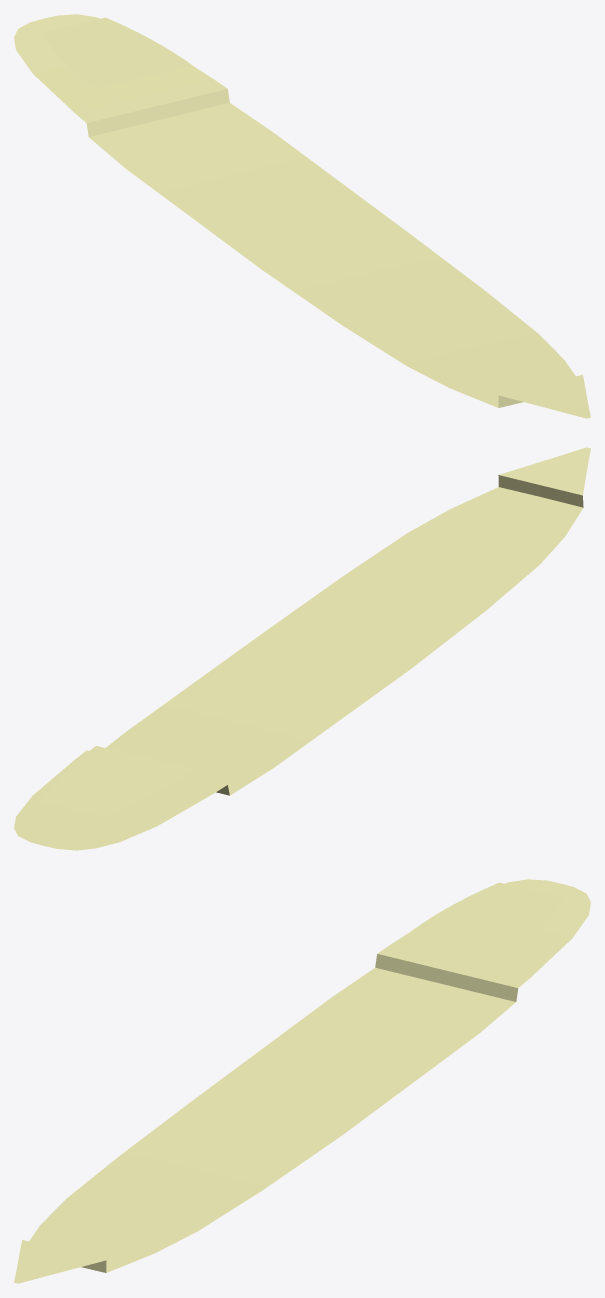
3 views of the same model, one above another, from view 1: azimuth 30°, elevation 25°; view 2: azimuth 150°, elevation 25°; view 3: azimuth 330°, elevation 25° (orthographic).
Visible parts, largest first — view 1: 船板; view 2: 船板; view 3: 船板.
Part boxes in pixels (left/top/right/bottom): 船板: left=14, top=14, right=590, bottom=418; 船板: left=14, top=447, right=590, bottom=850; 船板: left=14, top=879, right=590, bottom=1283.
Bounding box in the file's own units: 15.33 × 3.39 × 97.78.
